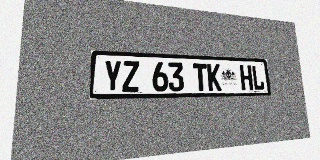3: (168, 62, 184, 91)
6: (152, 62, 168, 92)
H: (240, 65, 253, 90)
K: (207, 64, 222, 91)
L: (251, 65, 265, 90)
T: (193, 63, 208, 91)
Y: (103, 60, 122, 92)
Z: (122, 60, 139, 92)
